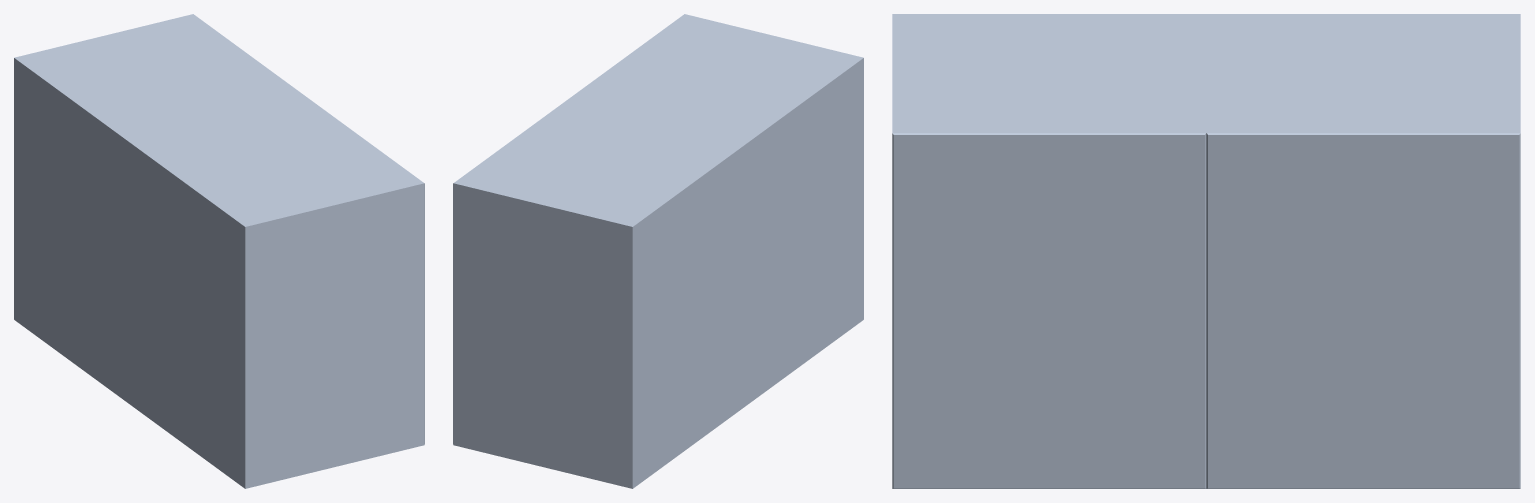
File: Kitchen_cabinet.fbx
3 renders of one model, left to right at view 1: azimuth 30°, elevation 25°; view 2: azimuth 150°, elevation 25°; view 3: azimuth 270°, elevation 25°, orthographic. The views are drawn at different scales.
Parts seen in each view (by area): view 1: Kitchen_cabinet; view 2: Kitchen_cabinet; view 3: Kitchen_cabinet.
Boxes of the visible parts, <box> form: Kitchen_cabinet: <box>14,14,424,488</box>; Kitchen_cabinet: <box>453,14,863,488</box>; Kitchen_cabinet: <box>892,14,1520,488</box>.
Size of the model in its own units: 1440 by 2000 by 3200.
